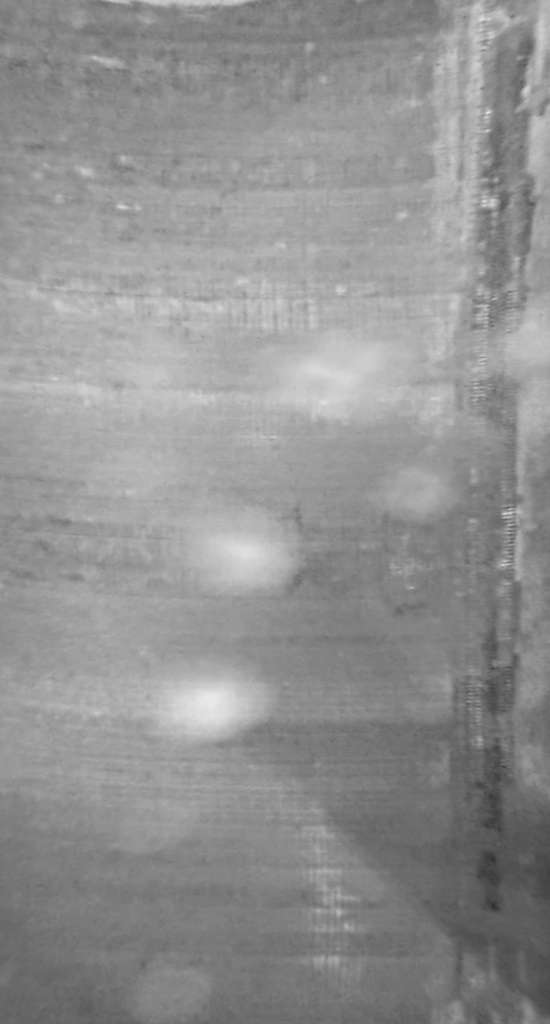splice: (451, 1, 541, 1024)
